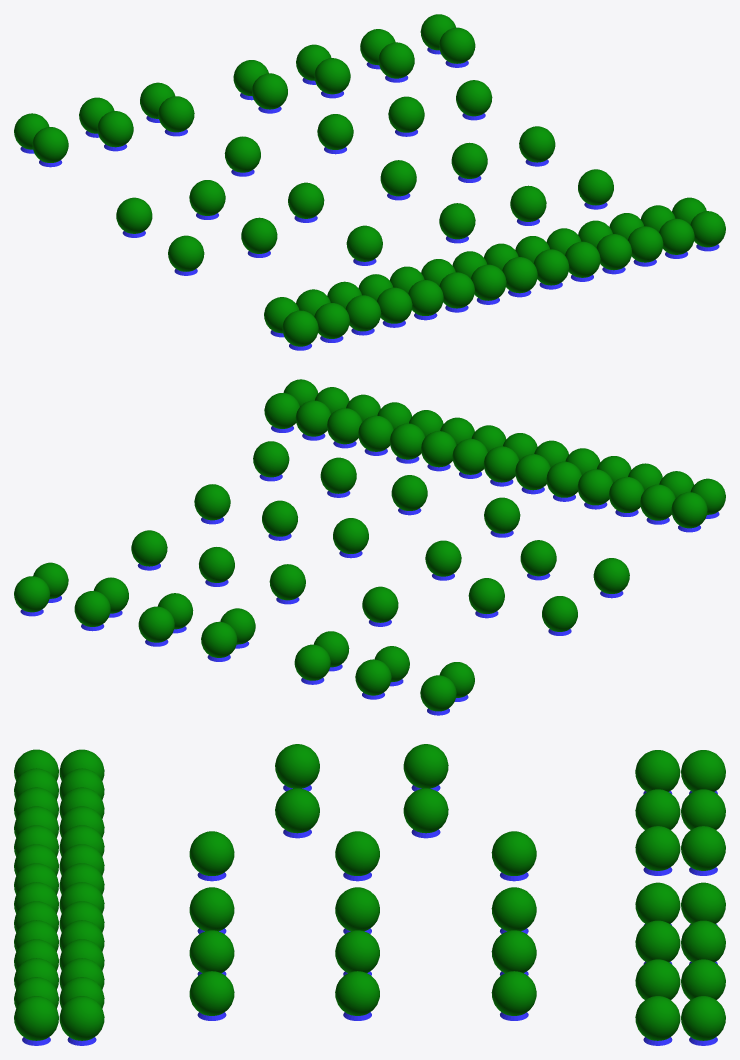
The model's file is A9 Trees.obj.
3 renders of one model, top to bottom at view 1: azimuth 30°, elevation 25°; view 2: azimuth 150°, elevation 25°; view 3: azimuth 270°, elevation 25°, orthographic. The views are drawn at different scales.
Parts seen in each view (by area): view 1: Mesh103 TreeTop52 Tree52 A9_Trees1 Model, Mesh107 TreeTop54 Tree54 A9_Trees1 Model, Mesh15 TreeTop8 Tree8 A9_Trees1 Model, Mesh19 TreeTop10 Tree10 A9_Trees1 Model, Mesh55 TreeTop28 Tree28 A9_Trees1 Model, Mesh89 TreeTop45 Tree45 A9_Trees1 Model, Mesh95 TreeTop48 Tree48 A9_Trees1 Model, Mesh99 TreeTop50 Tree50 A9_Trees1 Model, Mesh33 TreeTop17 Tree17 A9_Trees1 Model, Mesh73 TreeTop37 Tree37 A9_Trees1 Model, Mesh77 TreeTop39 Tree39 A9_Trees1 Model, Mesh109 TreeTop55 Tree55 A9_Trees1 Model (+46 smaller); view 2: Mesh77 TreeTop39 Tree39 A9_Trees1 Model, Mesh63 TreeTop32 Tree32 A9_Trees1 Model, Mesh95 TreeTop48 Tree48 A9_Trees1 Model, Mesh9 TreeTop5 Tree5 A9_Trees1 Model, Mesh111 TreeTop56 Tree56 A9_Trees1 Model, Mesh51 TreeTop26 Tree26 A9_Trees1 Model, Mesh55 TreeTop28 Tree28 A9_Trees1 Model, Mesh59 TreeTop30 Tree30 A9_Trees1 Model, Mesh65 TreeTop33 Tree33 A9_Trees1 Model, Mesh101 TreeTop51 Tree51 A9_Trees1 Model, Mesh31 TreeTop16 Tree16 A9_Trees1 Model, Mesh35 TreeTop18 Tree18 A9_Trees1 Model (+46 smaller); view 3: Mesh103 TreeTop52 Tree52 A9_Trees1 Model, Mesh73 TreeTop37 Tree37 A9_Trees1 Model, Mesh75 TreeTop38 Tree38 A9_Trees1 Model, Mesh5 TreeTop3 Tree3 A9_Trees1 Model, Mesh95 TreeTop48 Tree48 A9_Trees1 Model, Mesh97 TreeTop49 Tree49 A9_Trees1 Model, Mesh31 TreeTop16 Tree16 A9_Trees1 Model, Mesh65 TreeTop33 Tree33 A9_Trees1 Model, Mesh35 TreeTop18 Tree18 A9_Trees1 Model, Mesh107 TreeTop54 Tree54 A9_Trees1 Model, Mesh25 TreeTop13 Tree13 A9_Trees1 Model, Mesh49 TreeTop25 Tree25 A9_Trees1 Model (+46 smaller).
Part boxes in pixels (x1=…): Mesh103 TreeTop52 Tree52 A9_Trees1 Model: x1=116, y1=197, x2=152, y2=233; Mesh107 TreeTop54 Tree54 A9_Trees1 Model: x1=519, y1=126, x2=555, y2=162; Mesh15 TreeTop8 Tree8 A9_Trees1 Model: x1=388, y1=96, x2=424, y2=132; Mesh19 TreeTop10 Tree10 A9_Trees1 Model: x1=97, y1=111, x2=133, y2=147; Mesh55 TreeTop28 Tree28 A9_Trees1 Model: x1=510, y1=185, x2=546, y2=221; Mesh89 TreeTop45 Tree45 A9_Trees1 Model: x1=378, y1=42, x2=414, y2=78; Mesh95 TreeTop48 Tree48 A9_Trees1 Model: x1=578, y1=169, x2=613, y2=205; Mesh99 TreeTop50 Tree50 A9_Trees1 Model: x1=252, y1=73, x2=287, y2=109; Mesh33 TreeTop17 Tree17 A9_Trees1 Model: x1=282, y1=310, x2=318, y2=346; Mesh73 TreeTop37 Tree37 A9_Trees1 Model: x1=439, y1=27, x2=475, y2=63; Mesh77 TreeTop39 Tree39 A9_Trees1 Model: x1=224, y1=136, x2=260, y2=172; Mesh109 TreeTop55 Tree55 A9_Trees1 Model: x1=380, y1=160, x2=416, y2=196; Mesh77 TreeTop39 Tree39 A9_Trees1 Model: x1=362, y1=586, x2=398, y2=622; Mesh63 TreeTop32 Tree32 A9_Trees1 Model: x1=138, y1=606, x2=174, y2=642; Mesh95 TreeTop48 Tree48 A9_Trees1 Model: x1=253, y1=441, x2=289, y2=477; Mesh9 TreeTop5 Tree5 A9_Trees1 Model: x1=425, y1=540, x2=461, y2=576; Mesh111 TreeTop56 Tree56 A9_Trees1 Model: x1=269, y1=564, x2=305, y2=600; Mesh51 TreeTop26 Tree26 A9_Trees1 Model: x1=355, y1=659, x2=391, y2=695; Mesh55 TreeTop28 Tree28 A9_Trees1 Model: x1=320, y1=457, x2=356, y2=493; Mesh59 TreeTop30 Tree30 A9_Trees1 Model: x1=14, y1=576, x2=50, y2=612; Mesh65 TreeTop33 Tree33 A9_Trees1 Model: x1=294, y1=644, x2=330, y2=680; Mesh101 TreeTop51 Tree51 A9_Trees1 Model: x1=420, y1=675, x2=456, y2=711; Mesh31 TreeTop16 Tree16 A9_Trees1 Model: x1=484, y1=497, x2=520, y2=533; Mesh35 TreeTop18 Tree18 A9_Trees1 Model: x1=520, y1=540, x2=556, y2=576; Mesh103 TreeTop52 Tree52 A9_Trees1 Model: x1=403, y1=744, x2=448, y2=788; Mesh73 TreeTop37 Tree37 A9_Trees1 Model: x1=635, y1=996, x2=680, y2=1040; Mesh75 TreeTop38 Tree38 A9_Trees1 Model: x1=59, y1=996, x2=104, y2=1040; Mesh5 TreeTop3 Tree3 A9_Trees1 Model: x1=403, y1=788, x2=448, y2=833; Mesh95 TreeTop48 Tree48 A9_Trees1 Model: x1=189, y1=971, x2=234, y2=1015; Mesh97 TreeTop49 Tree49 A9_Trees1 Model: x1=635, y1=826, x2=680, y2=870; Mesh31 TreeTop16 Tree16 A9_Trees1 Model: x1=189, y1=831, x2=234, y2=875; Mesh65 TreeTop33 Tree33 A9_Trees1 Model: x1=681, y1=826, x2=725, y2=870; Mesh35 TreeTop18 Tree18 A9_Trees1 Model: x1=275, y1=788, x2=319, y2=833; Mesh107 TreeTop54 Tree54 A9_Trees1 Model: x1=335, y1=971, x2=379, y2=1015; Mesh25 TreeTop13 Tree13 A9_Trees1 Model: x1=275, y1=744, x2=319, y2=788; Mesh49 TreeTop25 Tree25 A9_Trees1 Model: x1=14, y1=996, x2=58, y2=1040.
Bounding box in the file's own units: 14.32 × 1.02 × 15.9.
